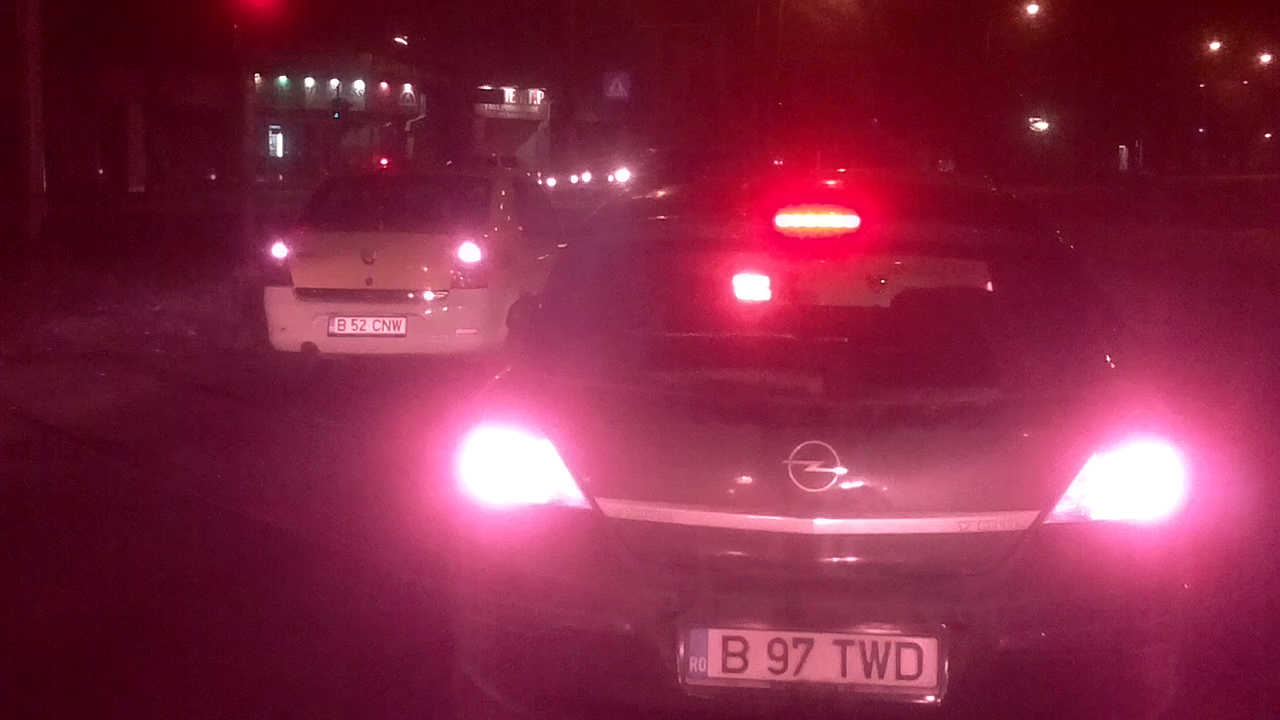license-plate: (678, 617, 949, 695), (323, 312, 410, 340)
